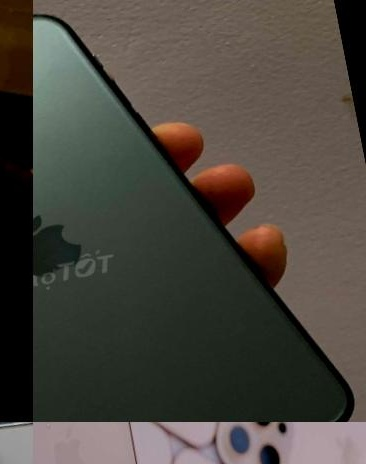physical_damage: (0, 447, 33, 464)
